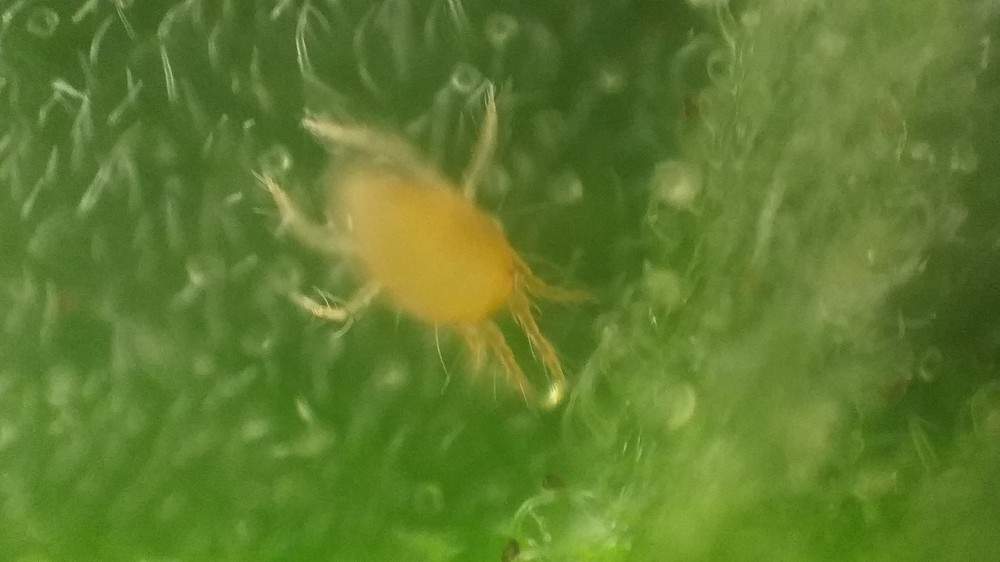Aracnido Rojo: (243, 80, 654, 435)
